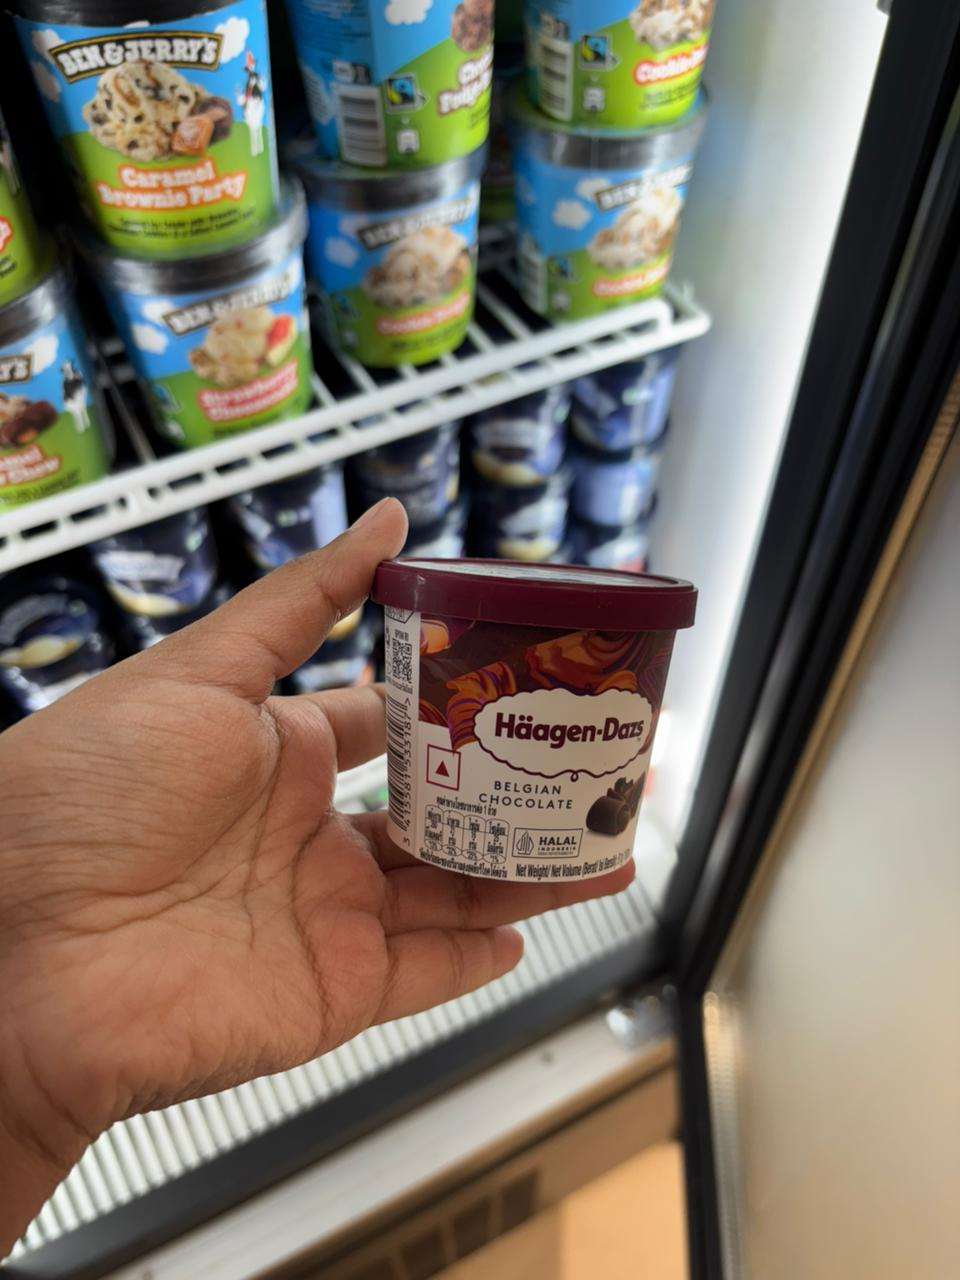Haagen-Dazs IceCream Tub: (364, 532, 708, 922)
